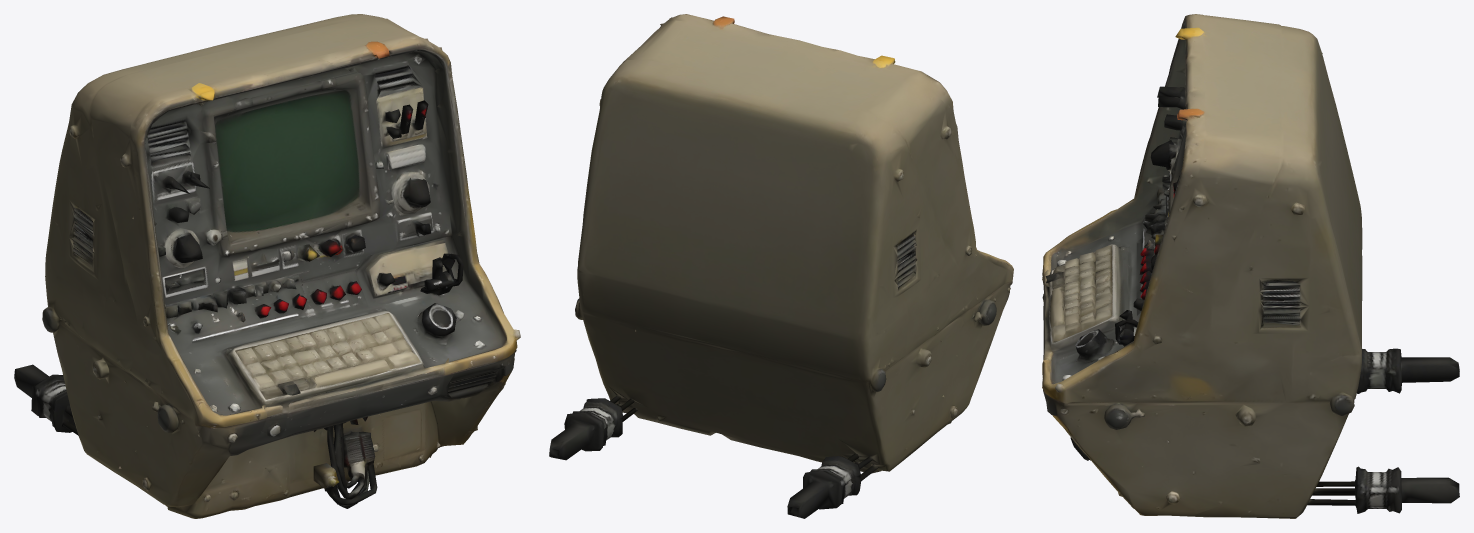
File: shuttle_crt_console.glb
The picture shows the model from 3 angles, left to right: view 1: azimuth 30°, elevation 25°; view 2: azimuth 150°, elevation 25°; view 3: azimuth 270°, elevation 25°; orthographic projection. The views are drawn at different scales.
Parts seen in each view (by area): view 1: tripo_node_2a5ef08d-4771-453d-ba60-51cf014d4886; view 2: tripo_node_2a5ef08d-4771-453d-ba60-51cf014d4886; view 3: tripo_node_2a5ef08d-4771-453d-ba60-51cf014d4886.
Boxes of the visible parts, x1,y1,x2,y2 form: tripo_node_2a5ef08d-4771-453d-ba60-51cf014d4886: (14, 14, 520, 518); tripo_node_2a5ef08d-4771-453d-ba60-51cf014d4886: (549, 14, 1013, 518); tripo_node_2a5ef08d-4771-453d-ba60-51cf014d4886: (1042, 14, 1459, 518).
Size of the model in its own units: 0.8535 by 0.978 by 0.9658.
1 material, 1 textured.
